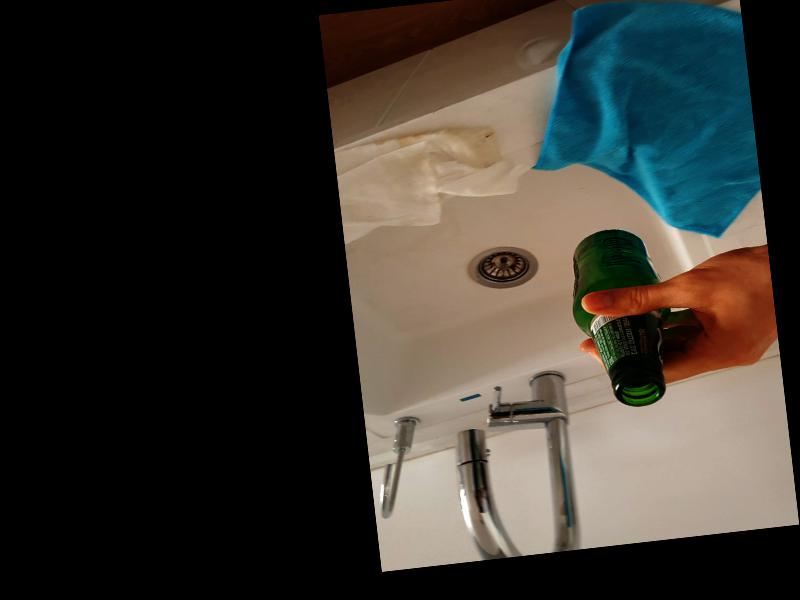Beer: (562, 223, 678, 412)
